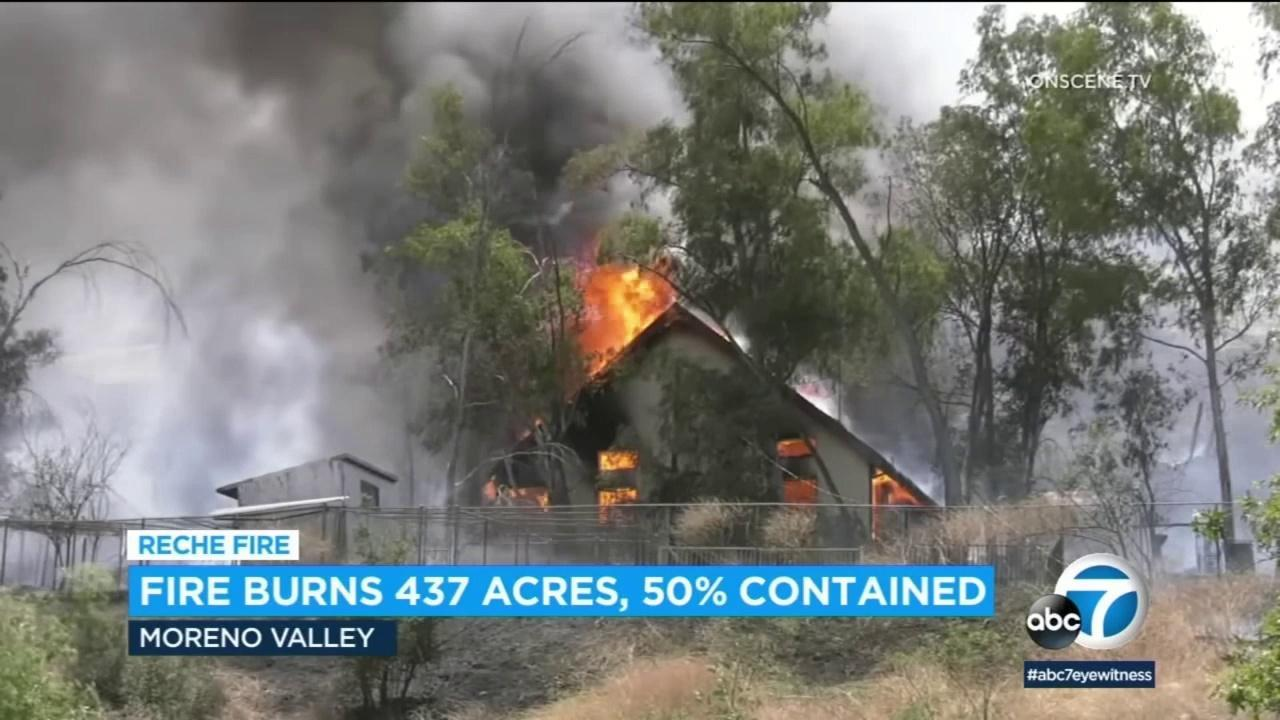fire: (575, 262, 671, 382), (481, 480, 499, 502), (537, 492, 550, 511), (508, 488, 529, 498), (533, 417, 544, 427)
smoke: (1, 0, 693, 518), (832, 313, 973, 505)
